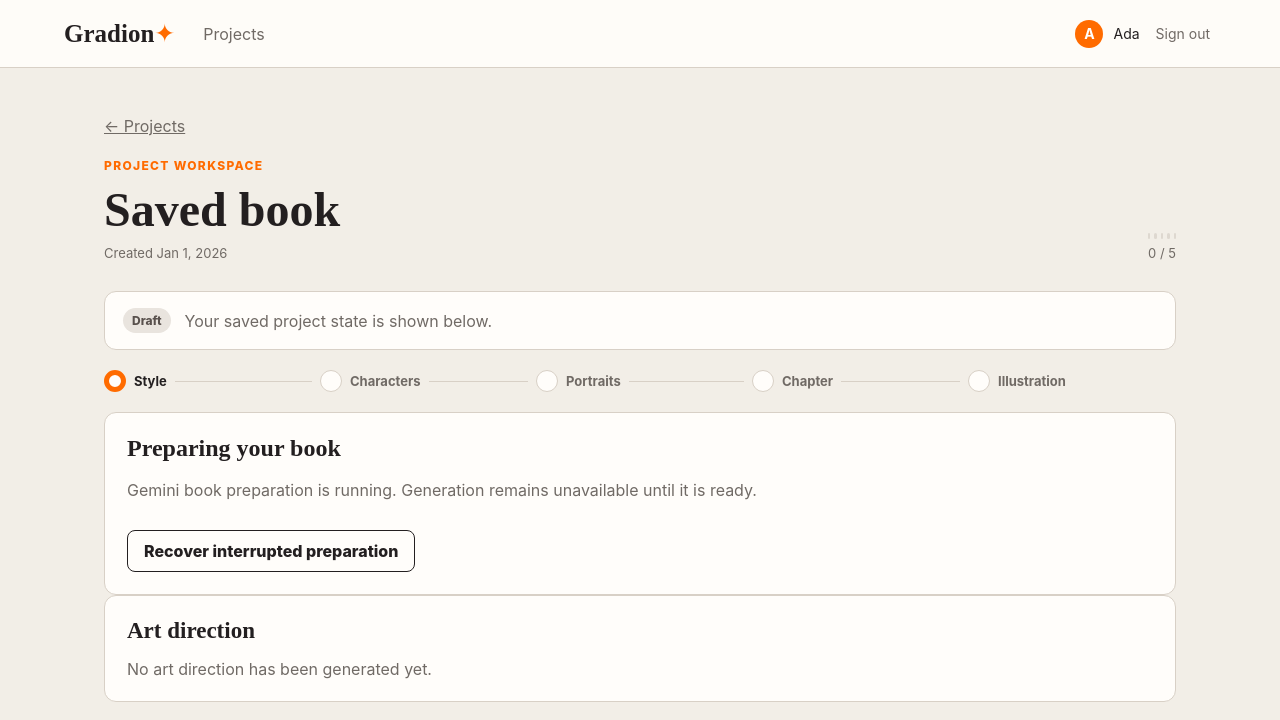
frontend project flow › shows explicit recovery for running book preparation and surfaces a safe conflict
Click the button "Recover interrupted preparation". click: (271, 551)
box: x1=127 y1=530 x2=415 y2=572
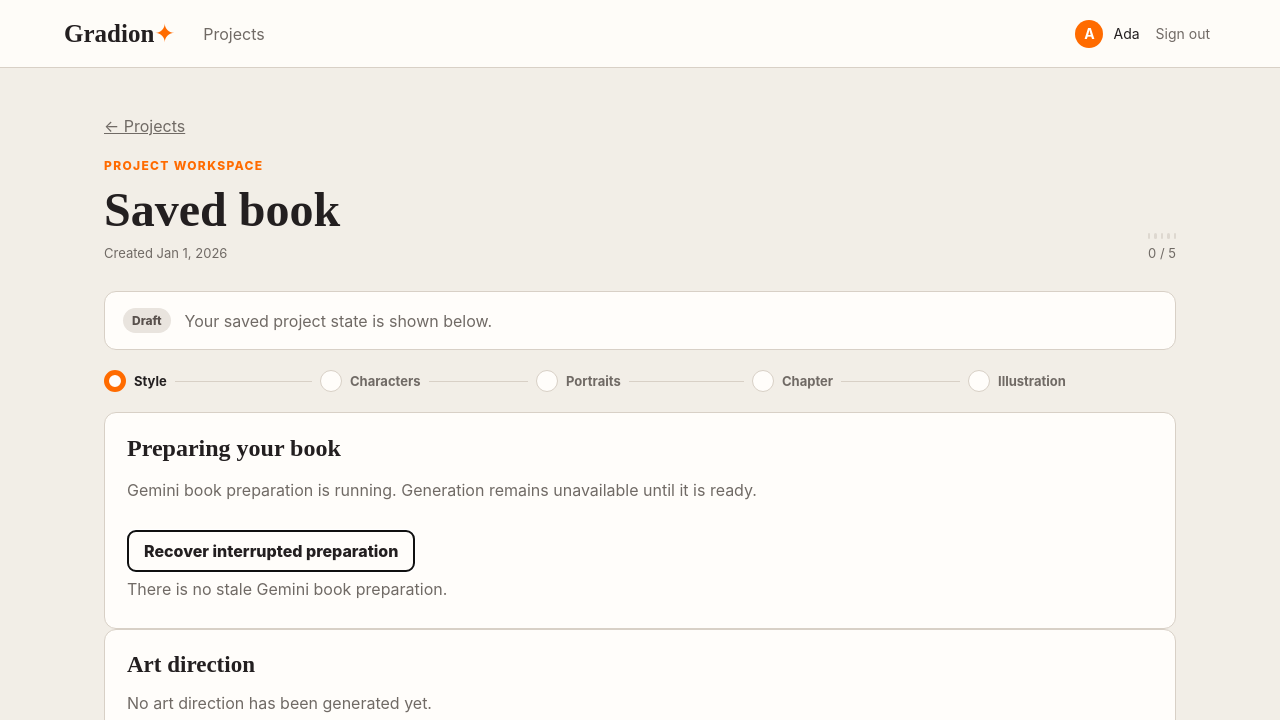
expect the message "There is no stale Gemini book preparation." is shown: met, box x1=127 y1=579 x2=447 y2=599
